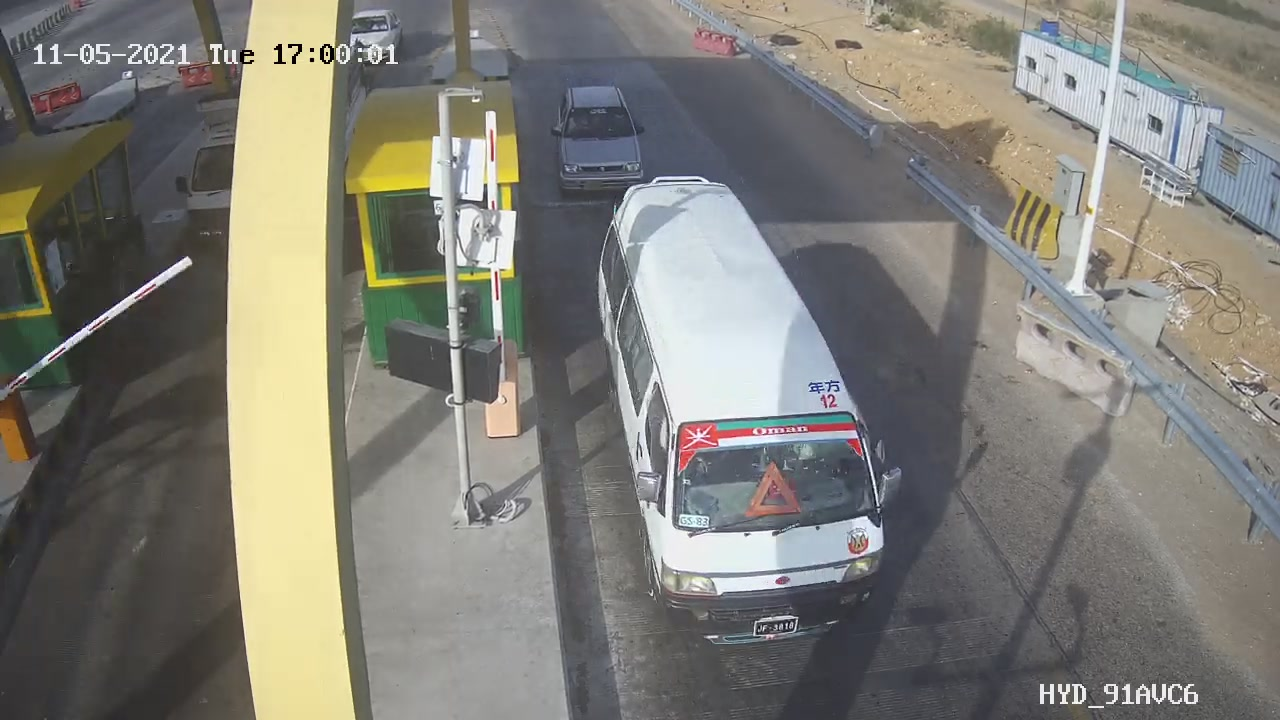F1: (544, 69, 664, 208)
